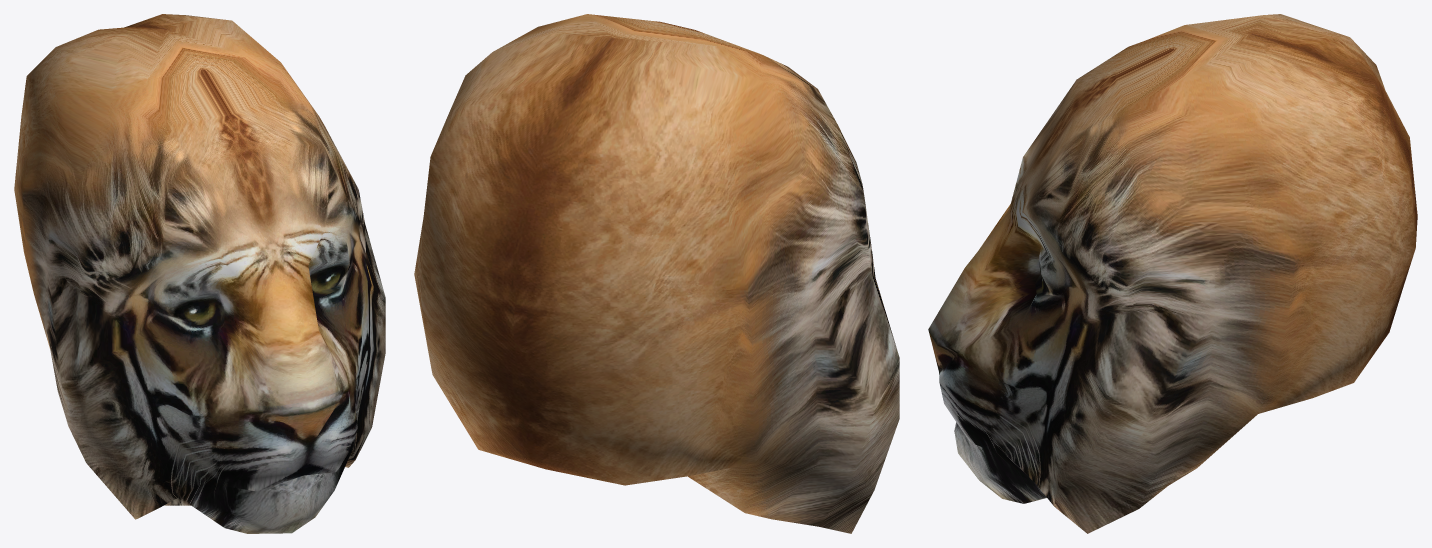
The model's file is b_n_khajiit_m_head_02.glb.
The picture shows the model from 3 angles, left to right: view 1: azimuth 30°, elevation 25°; view 2: azimuth 150°, elevation 25°; view 3: azimuth 270°, elevation 25°; orthographic projection. The views are drawn at different scales.
Visible parts, largest first — view 1: Tri B_N_Khajiit_M_Head_02; view 2: Tri B_N_Khajiit_M_Head_02; view 3: Tri B_N_Khajiit_M_Head_02.
Part boxes in pixels (bbox=[...]): Tri B_N_Khajiit_M_Head_02: bbox=[14, 14, 385, 533]; Tri B_N_Khajiit_M_Head_02: bbox=[414, 14, 899, 533]; Tri B_N_Khajiit_M_Head_02: bbox=[928, 14, 1417, 533].
Size of the model in its own units: 0.1164 by 0.1499 by 0.1488.
1 material, 1 textured.
